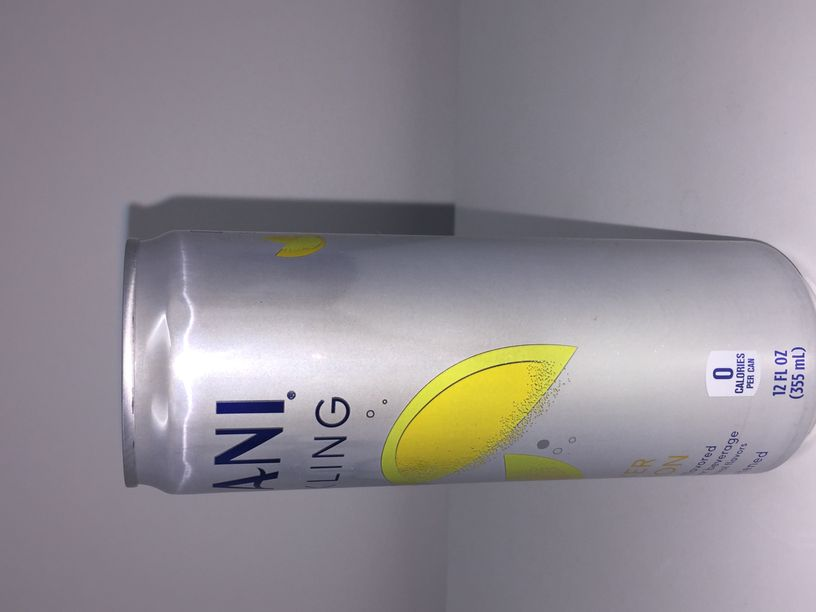lemon: (120, 228, 816, 497)
